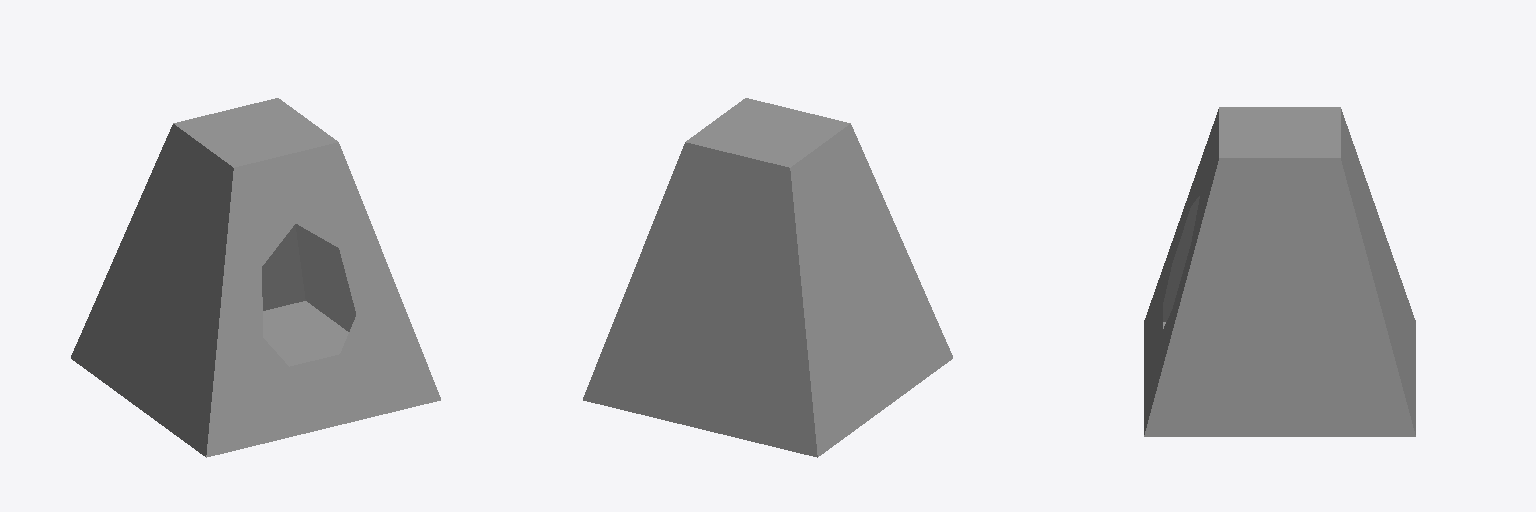
Rendered from RocketMarc3.obj.
3 views of the same model, side by side, from view 1: azimuth 30°, elevation 25°; view 2: azimuth 150°, elevation 25°; view 3: azimuth 270°, elevation 25° (orthographic).
Visible parts, largest first — view 1: Cube; view 2: Cube; view 3: Cube.
Boxes of the visible parts, x1,y1,x2,y2 form: Cube: [71, 98, 440, 457]; Cube: [583, 98, 952, 457]; Cube: [1144, 107, 1415, 436].
Bounding box in the file's own units: 2 × 2 × 2.